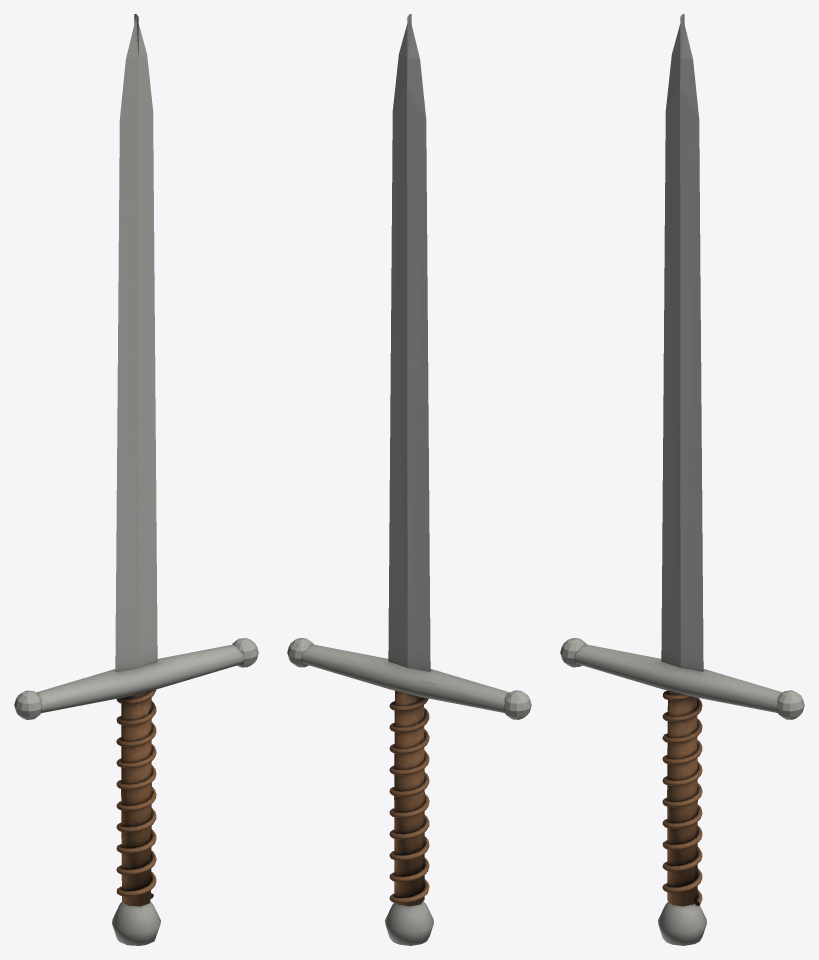
Rendered from arma_espada_longa_comum.glb.
The picture shows the model from 3 angles, left to right: view 1: azimuth 30°, elevation 25°; view 2: azimuth 150°, elevation 25°; view 3: azimuth 330°, elevation 25°; orthographic projection.
Parts seen in each view (by area): view 1: arma_espada_longa_comum; view 2: arma_espada_longa_comum; view 3: arma_espada_longa_comum.
Part boxes in pixels (left/top/right/bottom): arma_espada_longa_comum: left=14, top=14, right=258, bottom=945; arma_espada_longa_comum: left=287, top=14, right=531, bottom=945; arma_espada_longa_comum: left=560, top=14, right=804, bottom=945.
Size of the model in its own units: 0.336 by 1.24 by 0.06.
Materials: 1 (1 with a texture image).
